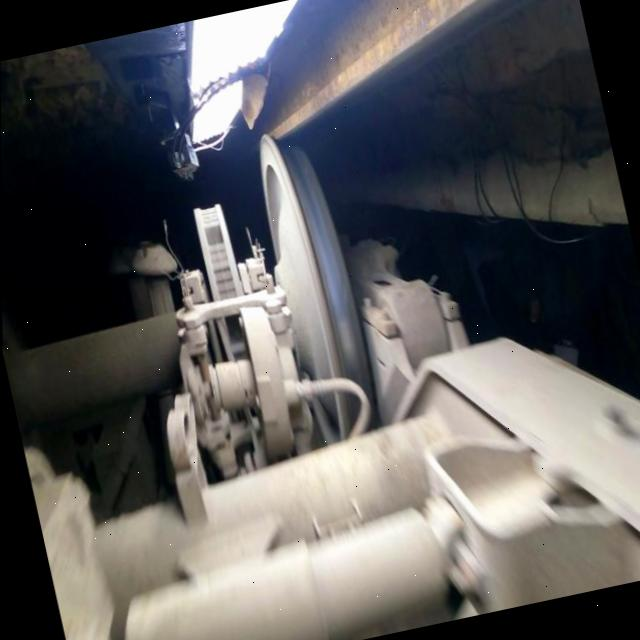Shelling: (336, 322, 355, 353)
Wheel: (259, 134, 372, 400)
